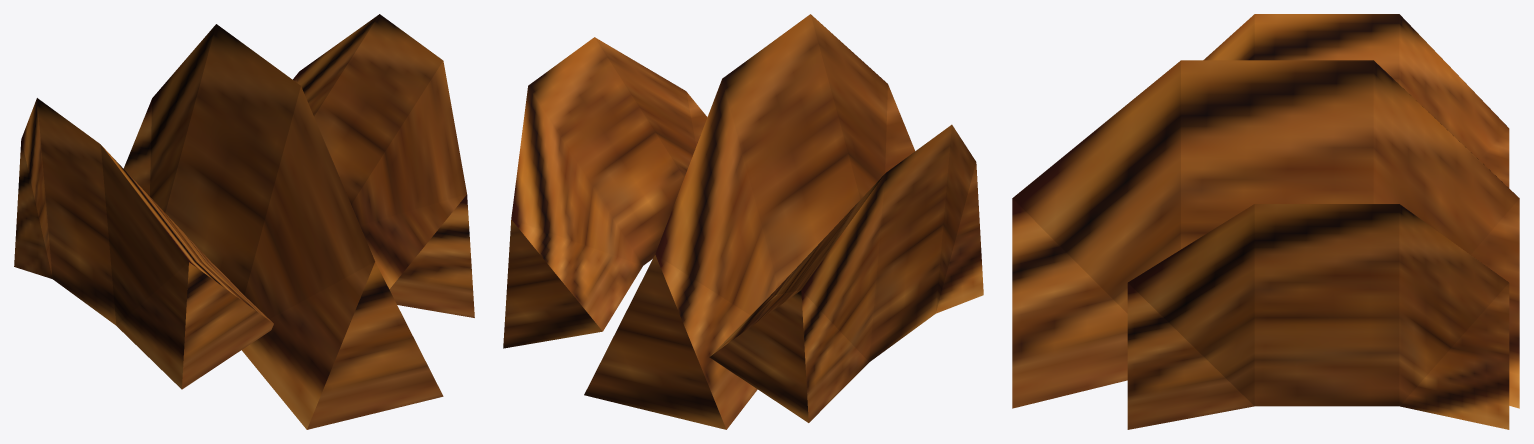
File: hair_female_06.dae
3 renders of one model, left to right at view 1: azimuth 30°, elevation 25°; view 2: azimuth 150°, elevation 25°; view 3: azimuth 270°, elevation 25°, orthographic. The views are drawn at different scales.
Parts seen in each view (by area): view 1: a_hair_female_06; view 2: a_hair_female_06; view 3: a_hair_female_06.
Boxes of the visible parts, box(x1,y1,x2,y2) form: a_hair_female_06: box(14, 14, 474, 429); a_hair_female_06: box(503, 14, 983, 429); a_hair_female_06: box(1012, 14, 1519, 429).
Bounding box in the file's own units: 0.4171 × 0.4704 × 0.3177.
